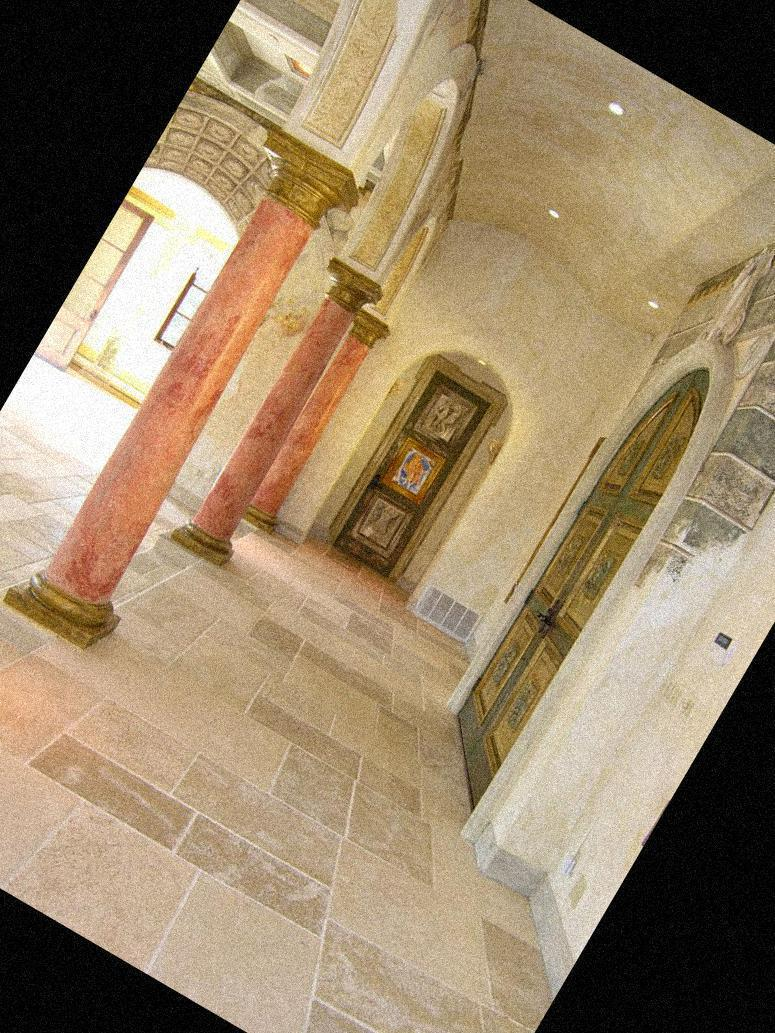Puerta: (396, 343, 747, 843), (330, 355, 504, 581)
